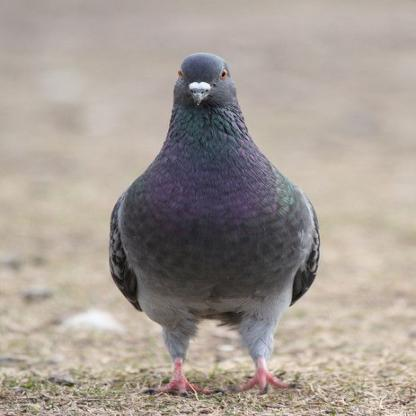Flying Rat: (104, 54, 324, 402)
